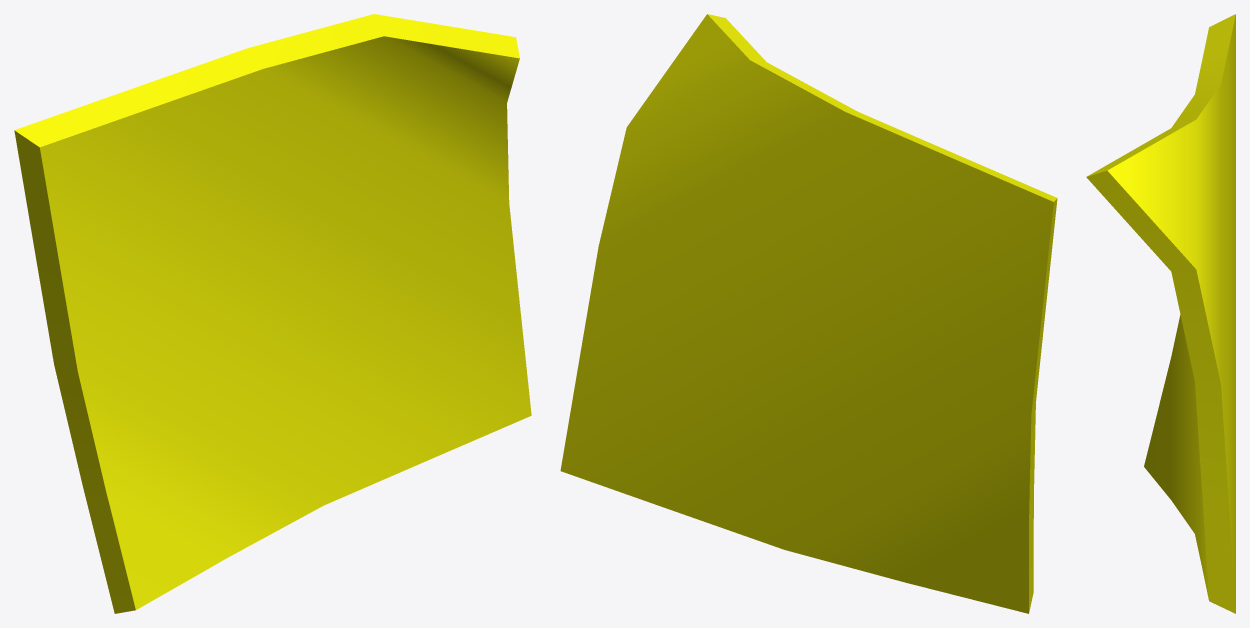
File: kaykit-target-wall-small.glb
The picture shows the model from 3 angles, left to right: view 1: azimuth 30°, elevation 25°; view 2: azimuth 150°, elevation 25°; view 3: azimuth 270°, elevation 25°; orthographic projection. The views are drawn at different scales.
Parts seen in each view (by area): view 1: target_wall_small; view 2: target_wall_small; view 3: target_wall_small.
Part boxes in pixels (box(x1,y1,x2,y2)): target_wall_small: box(14, 14, 531, 613); target_wall_small: box(560, 14, 1057, 613); target_wall_small: box(1086, 14, 1235, 613).
Size of the model in its own units: 1.18 by 1.14 by 0.3258.
